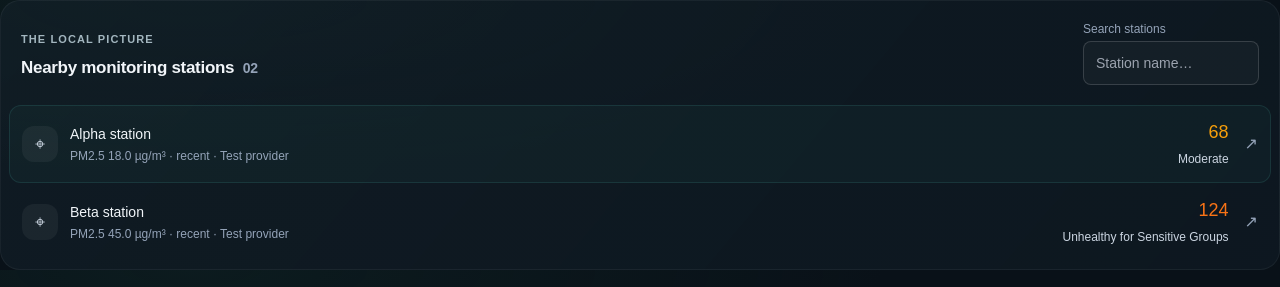
Test: filters stations and preserves full accessible names
The width and height of the screenshot is (1280, 287).
Type "Beta" into the search field labelled "Search stations" at (1171, 63), box 1083,41 -> 1259,85
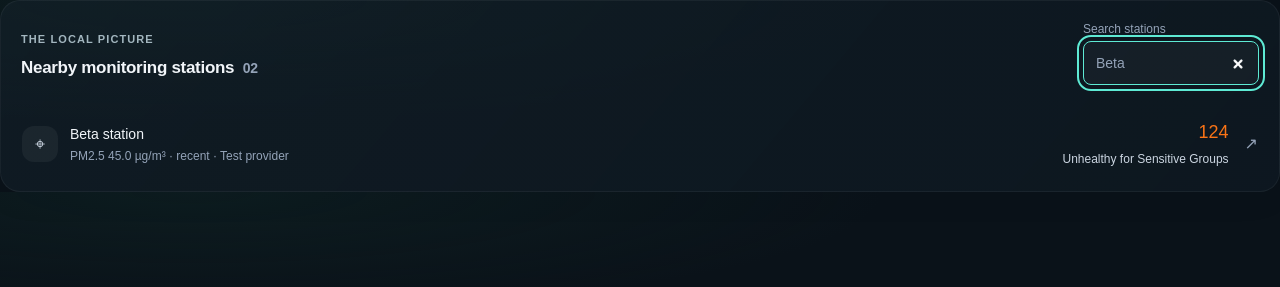
Check: the button "Beta station" is shown, box 9,105 -> 1271,183
Check: the button "Alpha station" is gone
